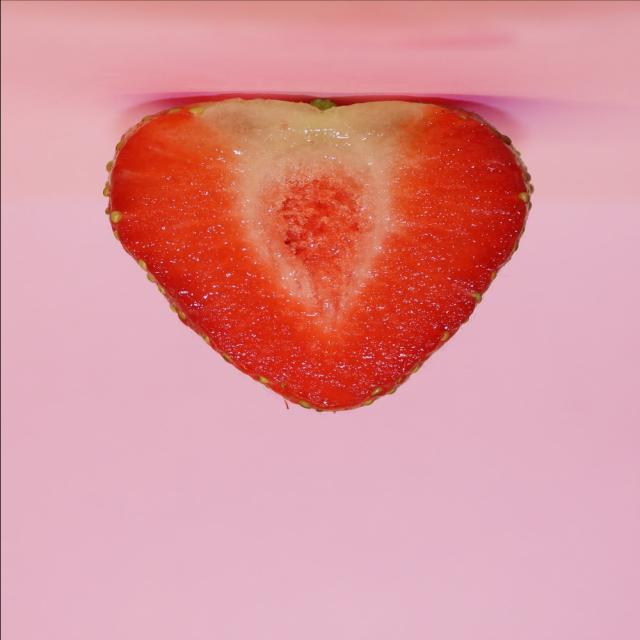strawberry: (69, 46, 603, 458)
